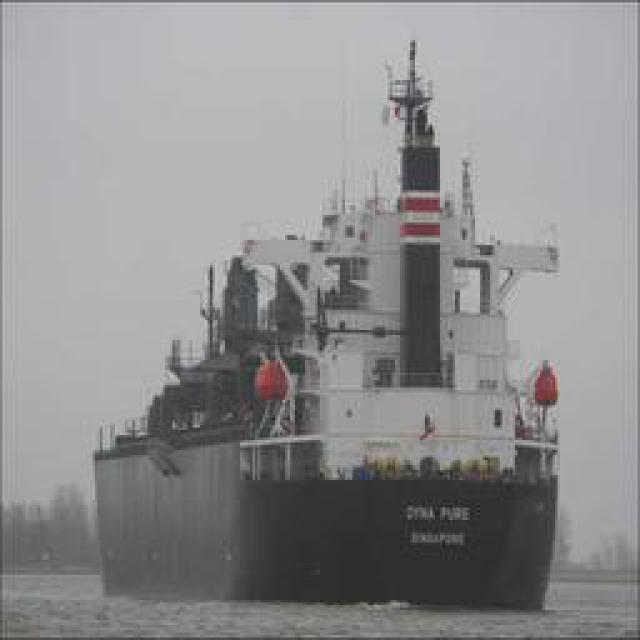Ship: (95, 30, 568, 608)
